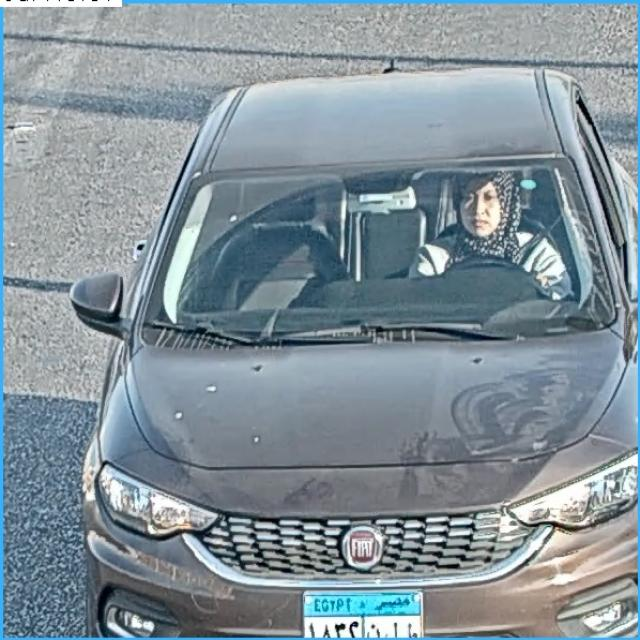windshield: (155, 173, 610, 329)
